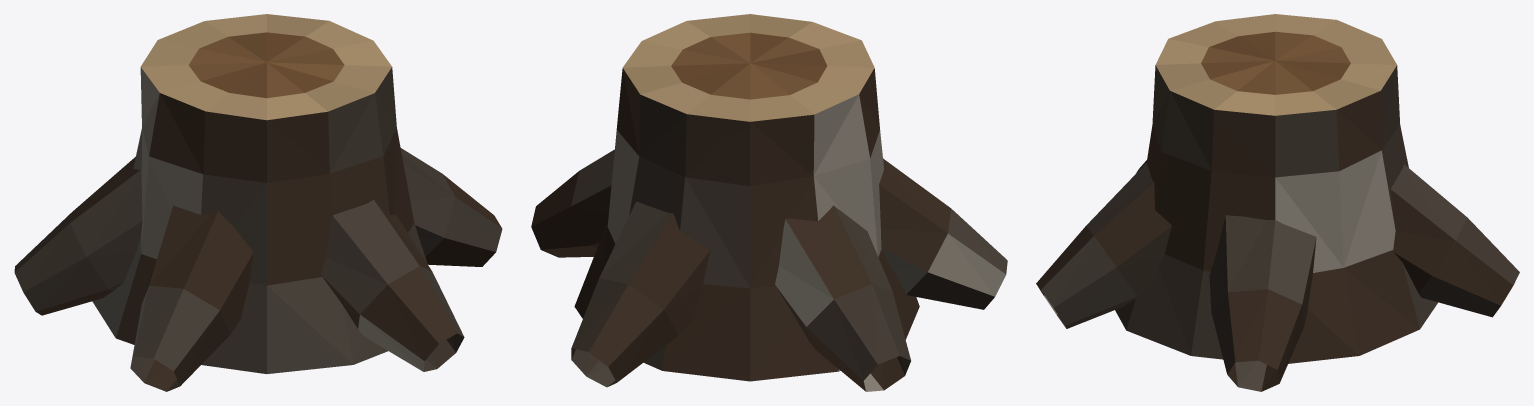
The model's file is stump.glb.
3 views of the same model, side by side, from view 1: azimuth 30°, elevation 25°; view 2: azimuth 150°, elevation 25°; view 3: azimuth 270°, elevation 25° (orthographic). The views are drawn at different scales.
Parts seen in each view (by area): view 1: stump; view 2: stump; view 3: stump.
Boxes of the visible parts, x1,y1,x2,y2 form: stump: [14, 14, 502, 391]; stump: [531, 14, 1007, 391]; stump: [1036, 14, 1519, 391].
Size of the model in its own units: 1.01 by 0.561 by 1.03.
